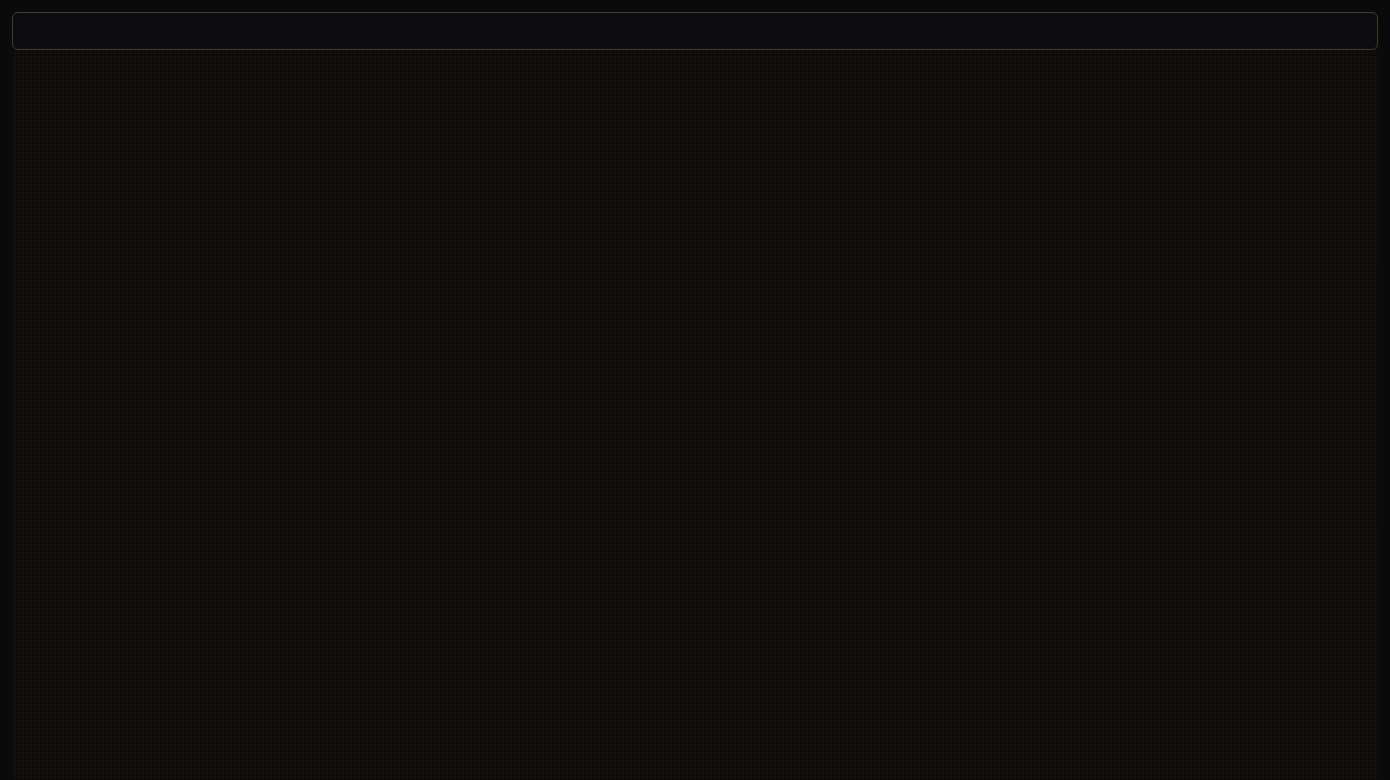
Test case: LabeledInput › shows a validation error on blur when validate returns a message
Step 1. Click the field named "X label" → (695, 31), box left=12, top=12, right=1378, bottom=50
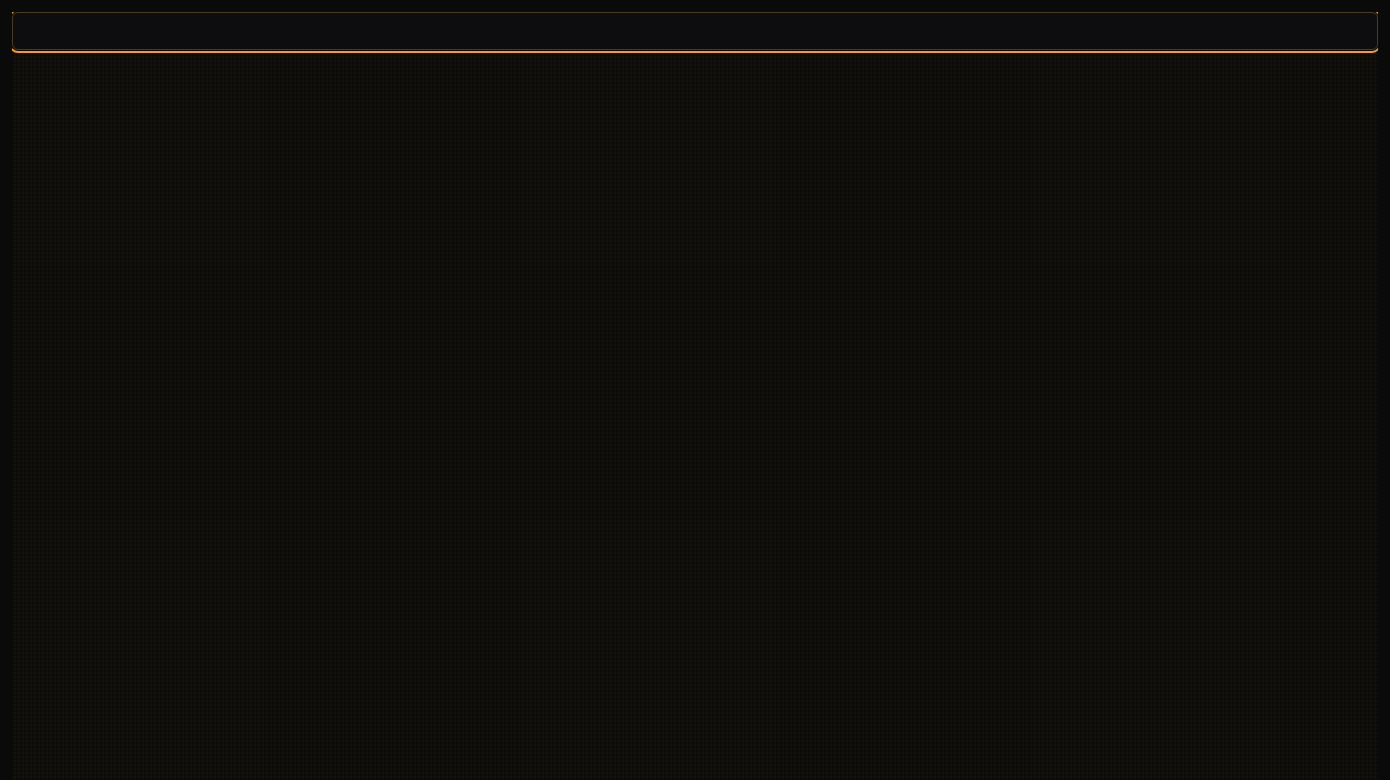
Step 2. Press Tab
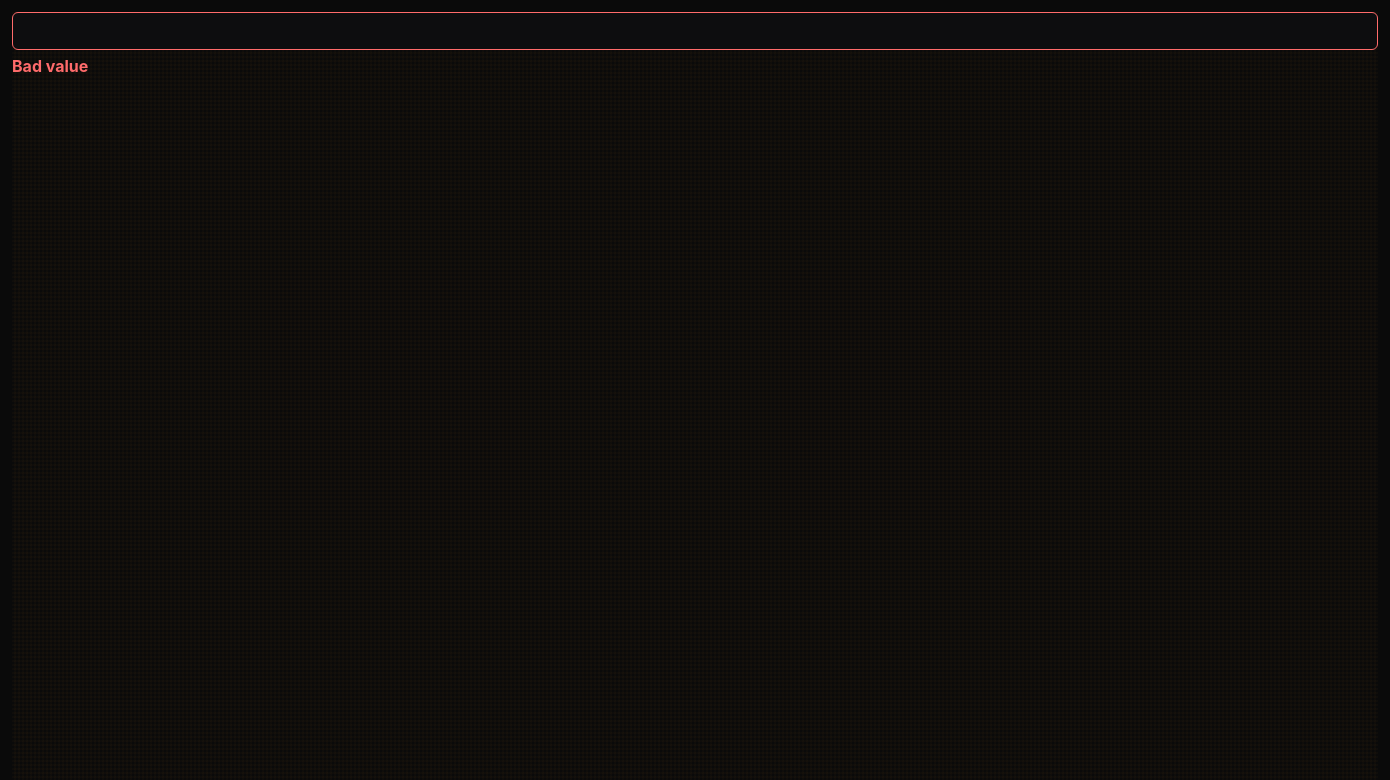
Expected: the text "Bad value" is shown, left=12, top=56, right=88, bottom=76
